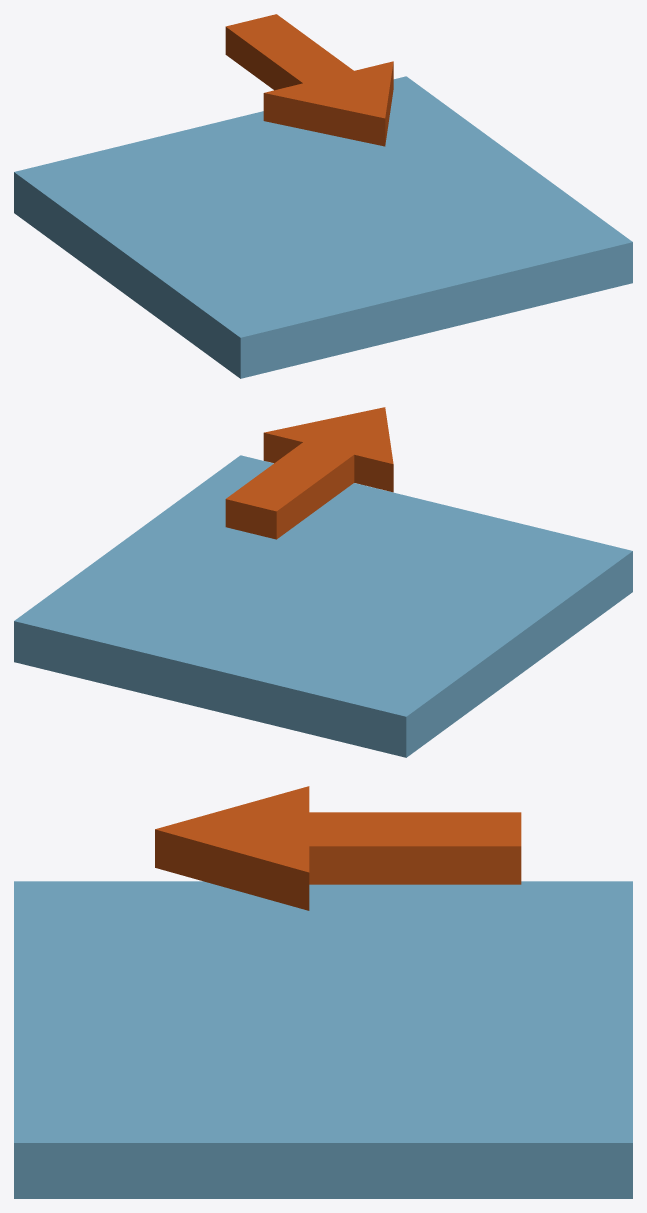
File: hologram.obj
3 renders of one model, top to bottom at view 1: azimuth 30°, elevation 25°; view 2: azimuth 150°, elevation 25°; view 3: azimuth 270°, elevation 25°, orthographic. The views are drawn at different scales.
Parts seen in each view (by area): view 1: Cube_Cube.001, Plane; view 2: Cube_Cube.001, Plane; view 3: Cube_Cube.001, Plane.
Part boxes in pixels (x1,y1,x2,y2): Cube_Cube.001: (14, 76, 632, 378); Plane: (225, 14, 393, 146); Cube_Cube.001: (14, 455, 632, 757); Plane: (225, 407, 393, 539); Cube_Cube.001: (14, 881, 632, 1198); Plane: (155, 786, 521, 910).
Bounding box in the file's own units: 2 × 0.8514 × 2.
